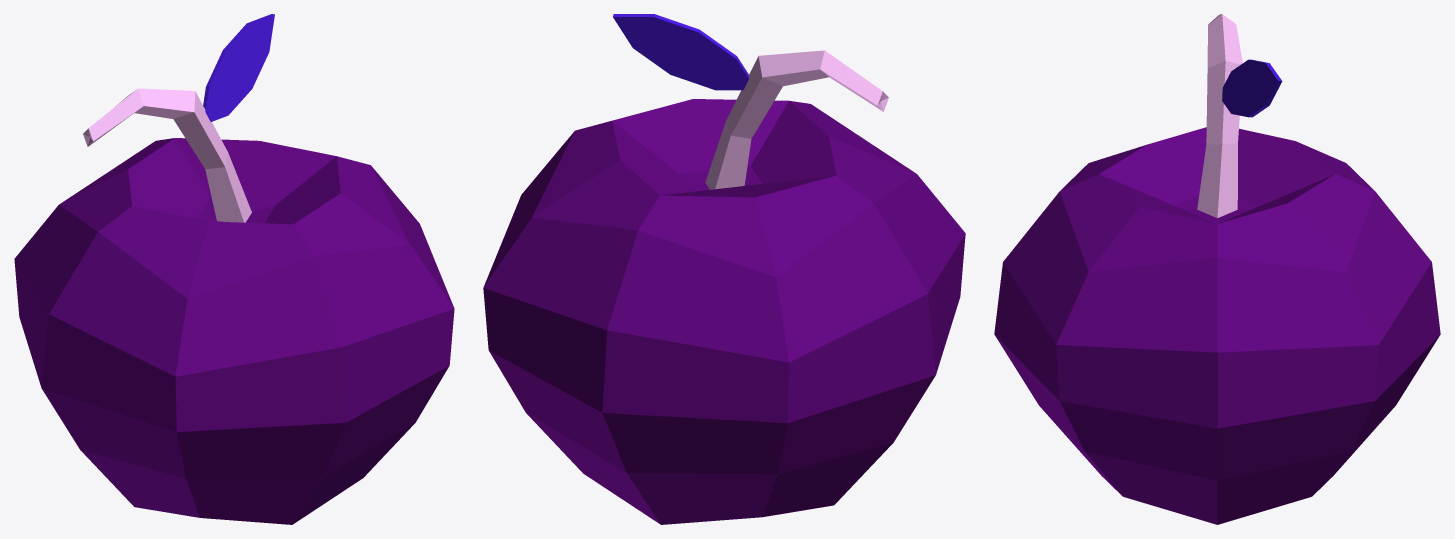
File: Apple_cursed_2_PS1.fbx
3 renders of one model, left to right at view 1: azimuth 30°, elevation 25°; view 2: azimuth 150°, elevation 25°; view 3: azimuth 270°, elevation 25°, orthographic. The views are drawn at different scales.
Visible parts, largest first — view 1: Apple.001, Leaf.001; view 2: Apple.001, Leaf.001; view 3: Apple.001, Leaf.001.
Part boxes in pixels (x1,y1,x2,y2): Apple.001: (14, 88, 454, 524); Leaf.001: (203, 14, 274, 121); Apple.001: (483, 50, 965, 524); Leaf.001: (613, 14, 748, 90); Apple.001: (994, 14, 1440, 524); Leaf.001: (1222, 59, 1282, 117).
Bounding box in the file's own units: 69.28 × 74.06 × 69.28.
